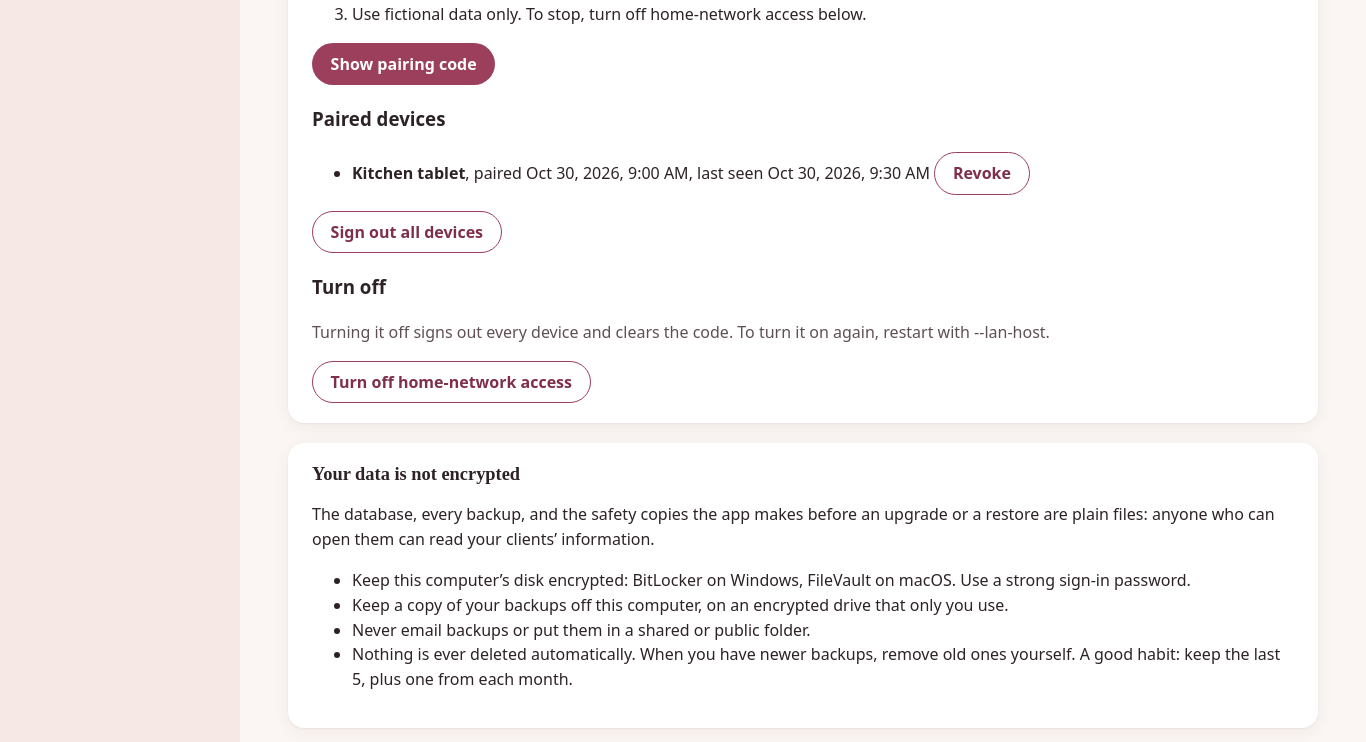
Test: host operational panel › keeps the controls and reports a failed turn-off
(page scrolled)
Click the button "Turn off home-network access" at (451, 382), box [312,361,591,404]
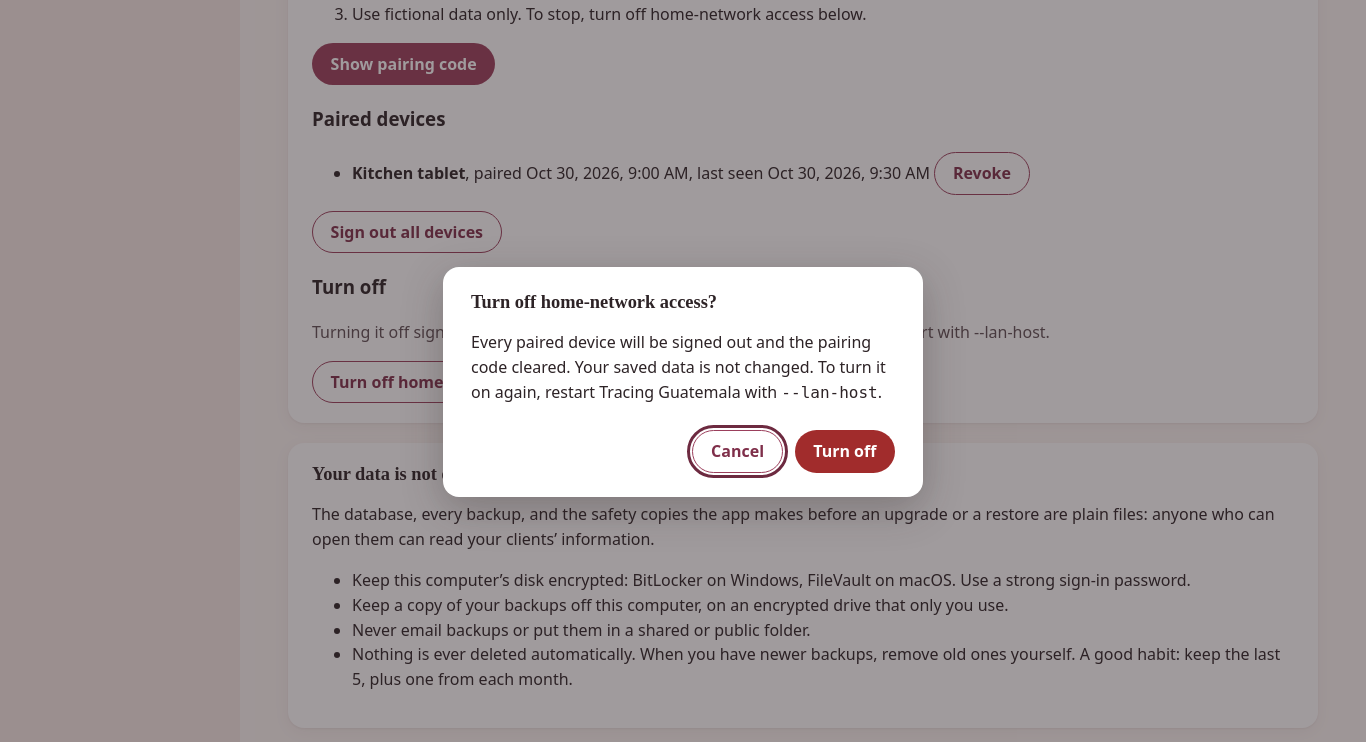
Click the button "Turn off" at (845, 451), box [795,430,895,473]
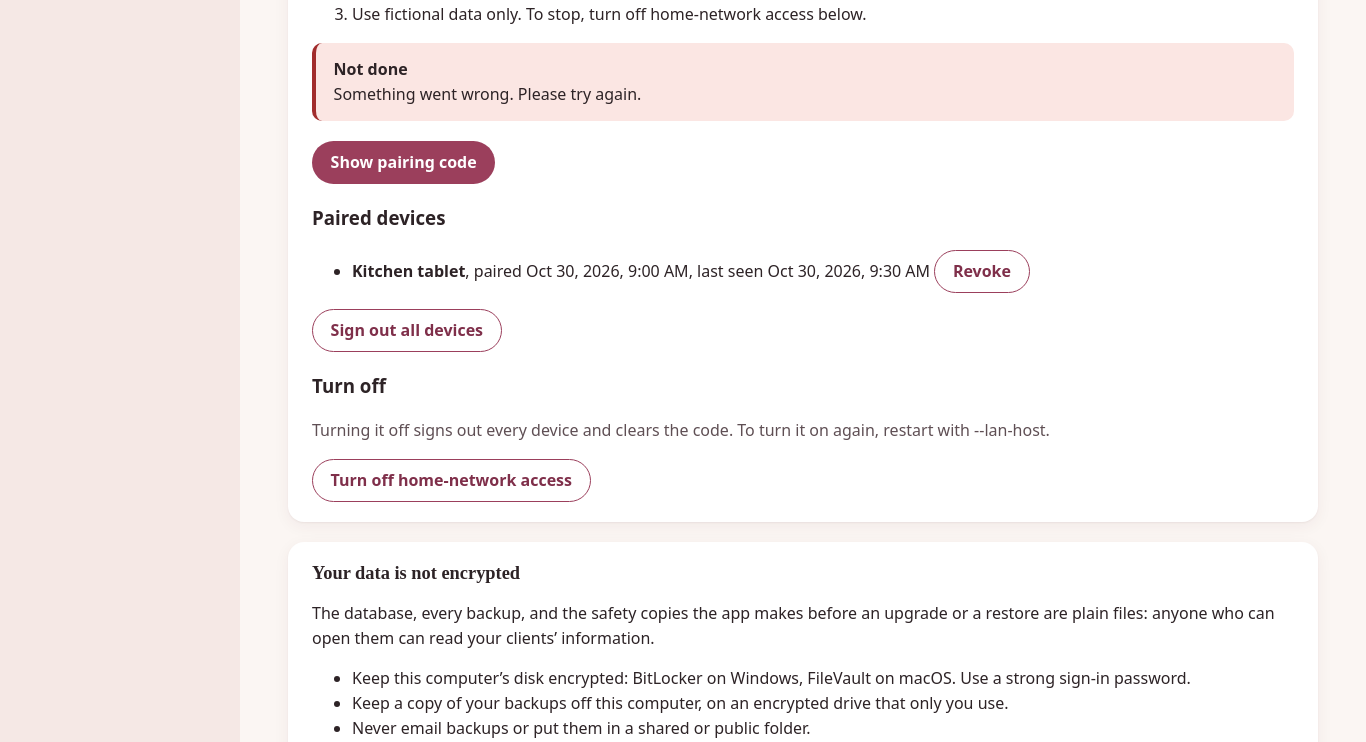
Expected: the button "Show pairing code" is shown, [312,141,495,184]
Now the text "Something went wrong. Please try again." is shown, box [334,83,641,105]
